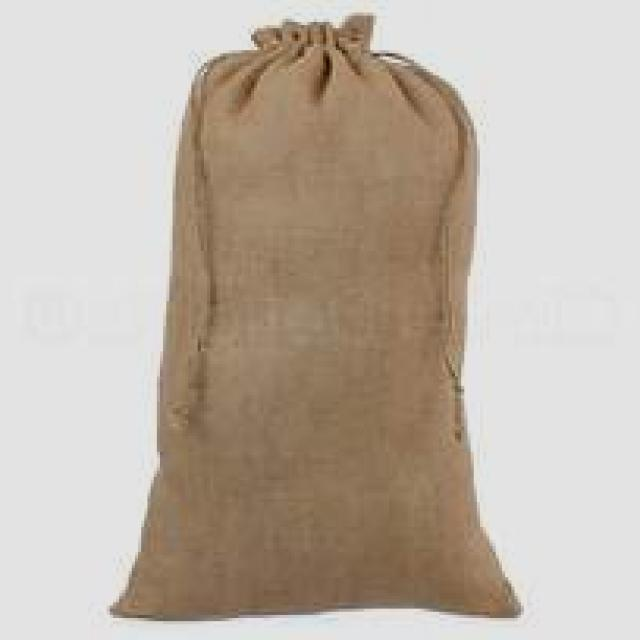gunny_bag: (110, 13, 529, 627)
